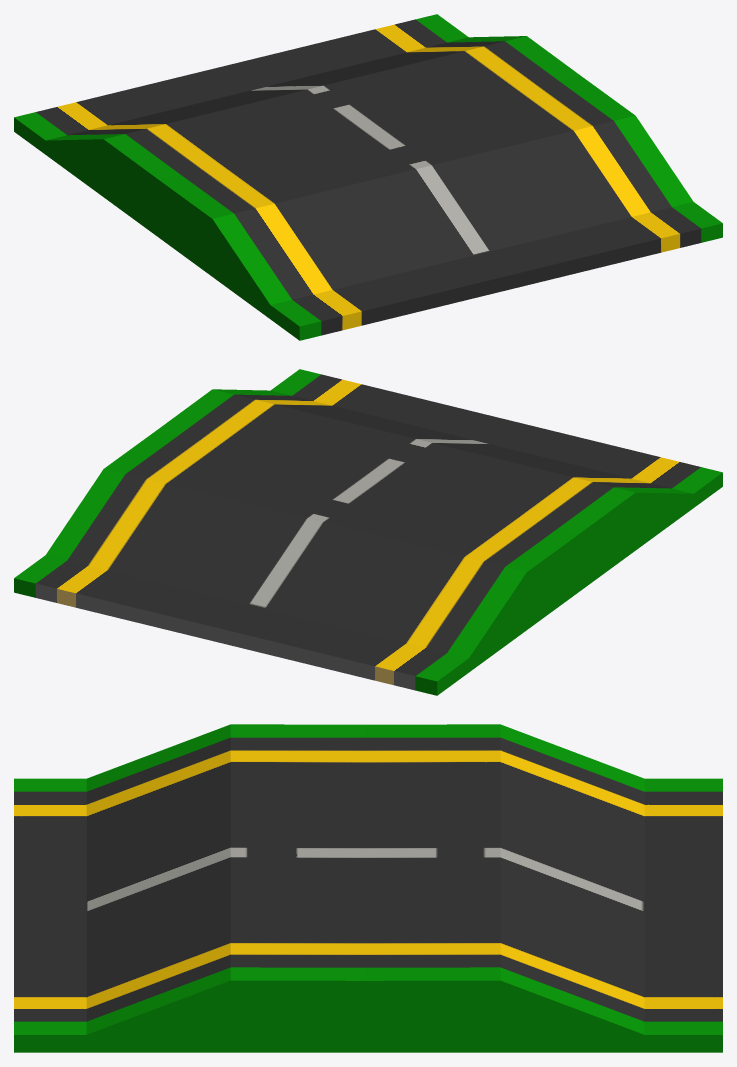
File: pista04.fbx
3 renders of one model, top to bottom at view 1: azimuth 30°, elevation 25°; view 2: azimuth 150°, elevation 25°; view 3: azimuth 270°, elevation 25°, orthographic. The views are drawn at different scales.
Parts seen in each view (by area): view 1: pista04; view 2: pista04; view 3: pista04.
Boxes of the visible parts, x1,y1,x2,y2 form: pista04: [14, 14, 722, 340]; pista04: [14, 369, 722, 695]; pista04: [14, 724, 722, 1052].
Bounding box in the file's own units: 2539 × 333 × 2969.
1 material, 1 textured.
